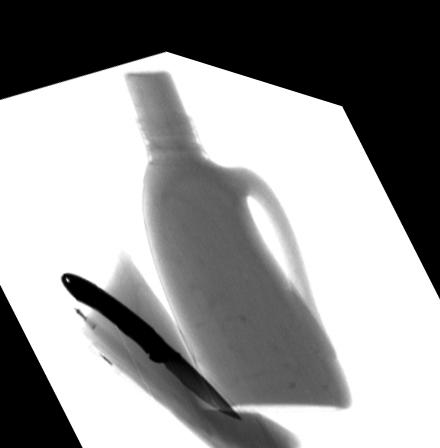Knife: (59, 268, 245, 407)
